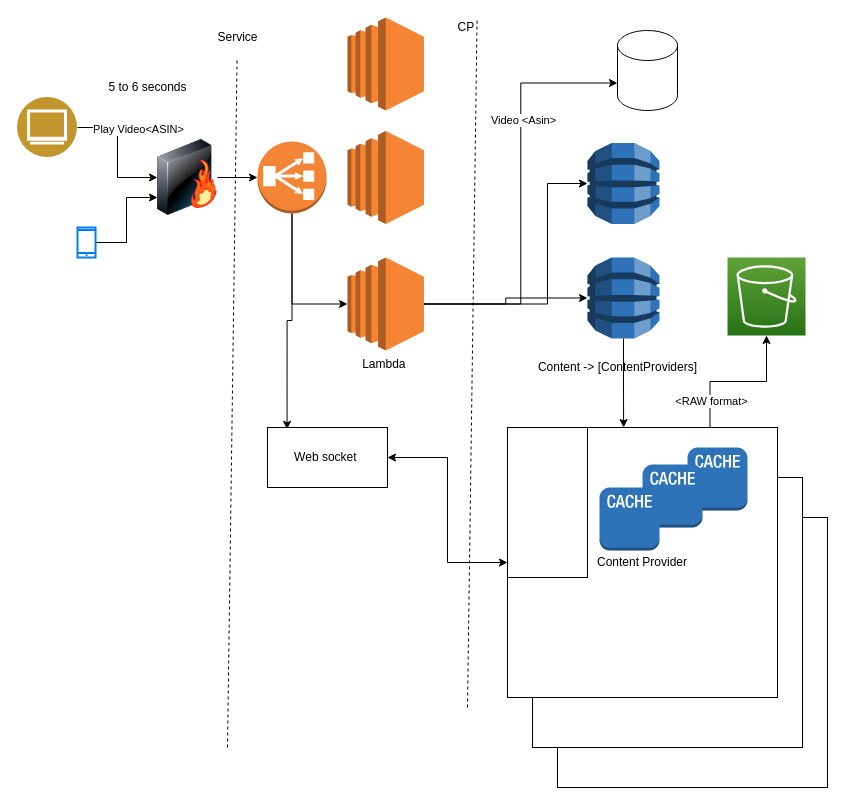
The diagram is 845 pixels wide and 805 high, and some of its shapes have lost their labels. Here are the shapes that lost their labels. From the top down, the box of each, then its label:
(586, 142, 660, 224): Customer -> content mapping
(506, 426, 588, 578): Transcoder
